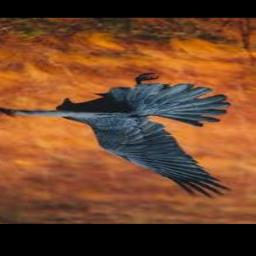Crow: (0, 74, 233, 200)
